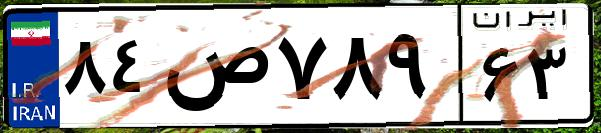3: (525, 38, 570, 115)
4: (110, 28, 158, 98)
6: (475, 38, 525, 113)
7: (270, 28, 330, 110)
8: (330, 28, 385, 110), (57, 26, 110, 100)
9: (385, 28, 445, 110)
ص: (158, 20, 270, 120)
